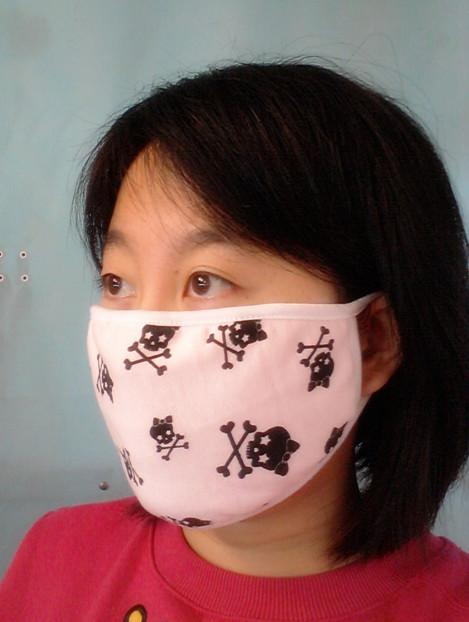OK: (83, 217, 372, 530)
